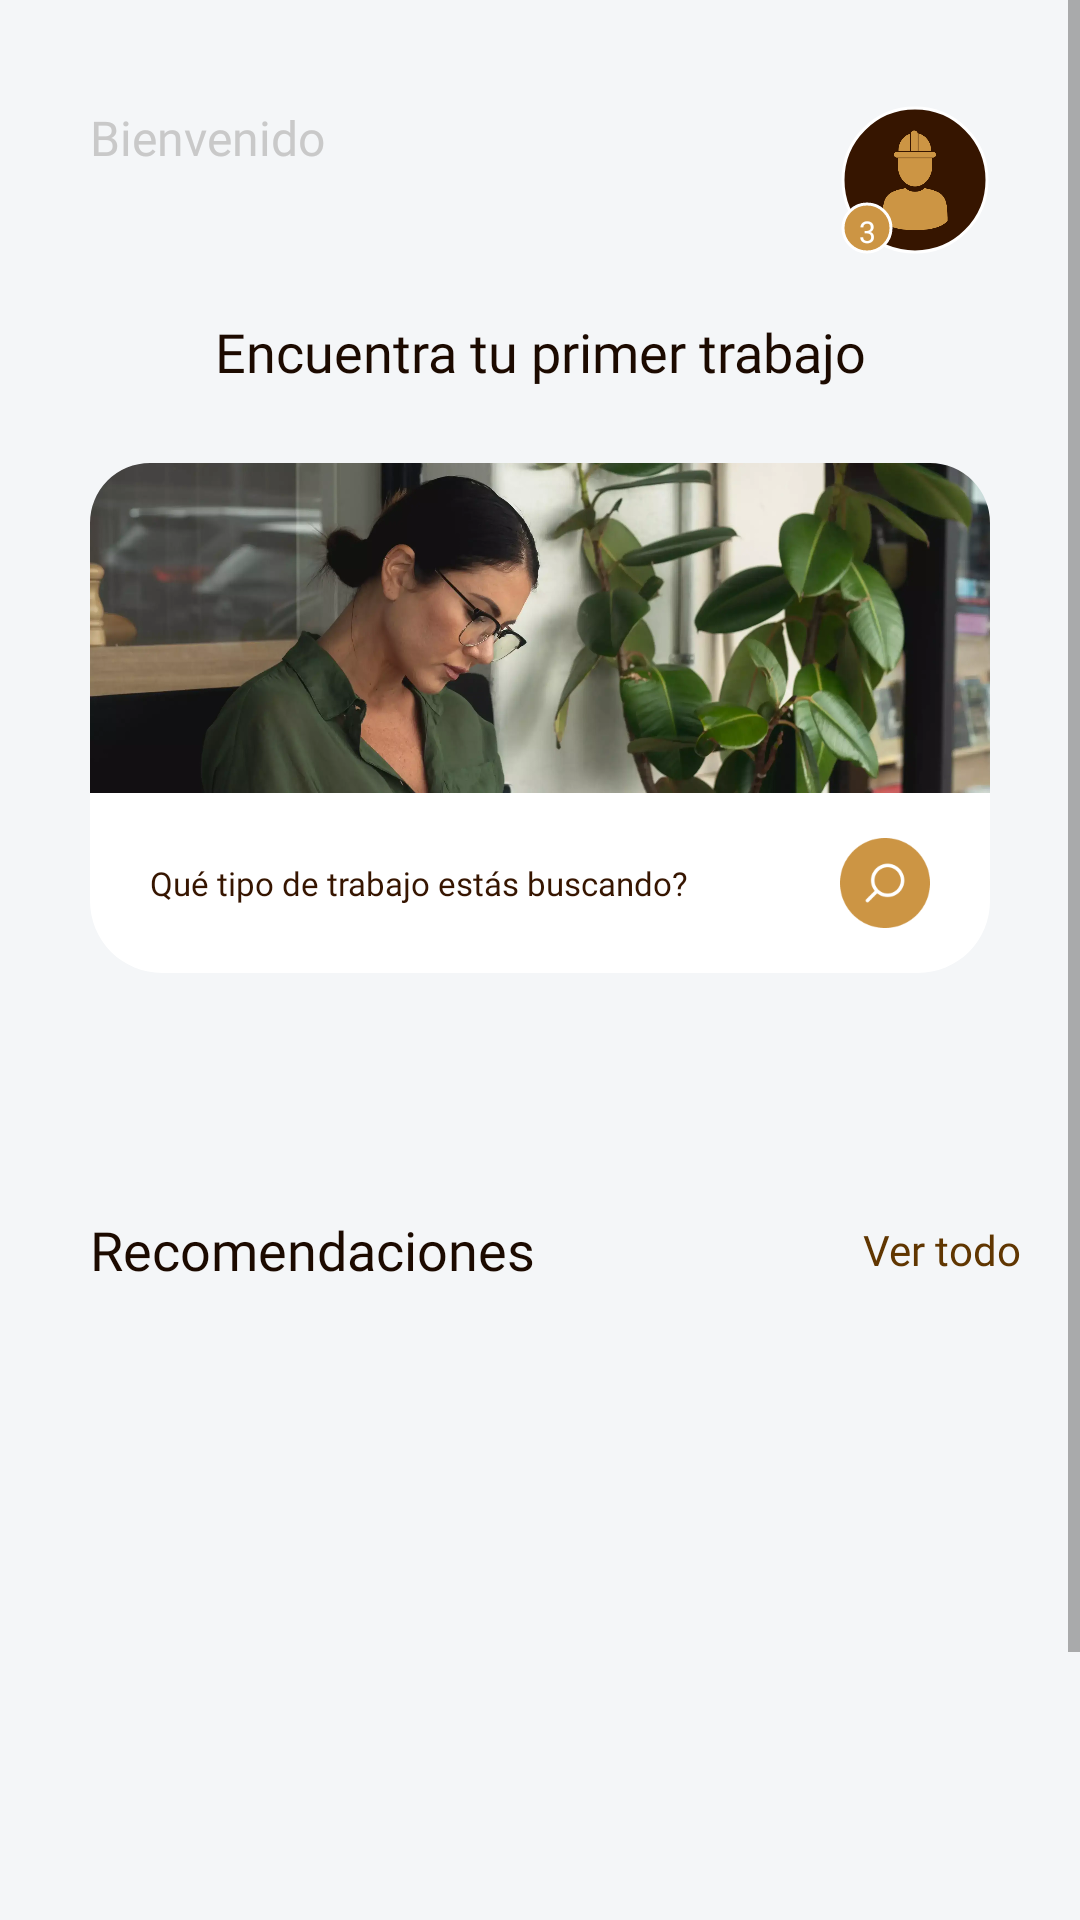

Where to tap for icons on this 1080×1920 app screen, as point (x, y):
profile picture: point (915, 180)
search: point (885, 883)
